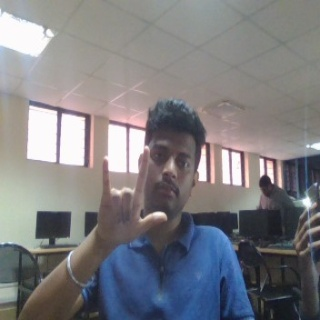I Love You: (95, 145, 169, 252)
